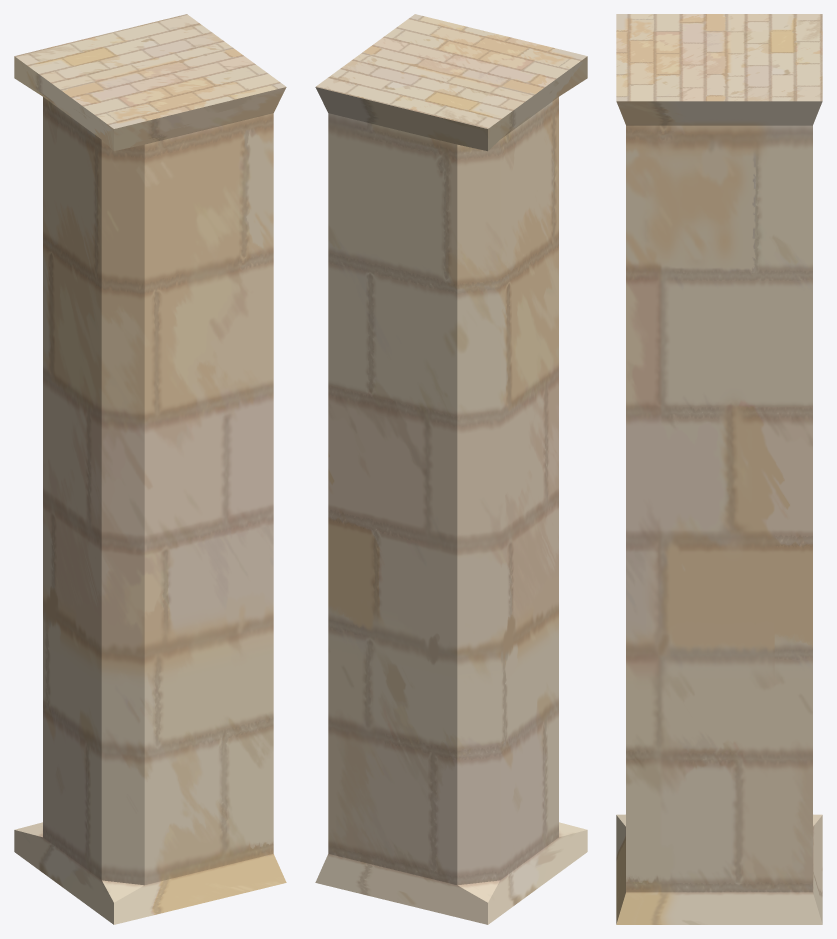
The model's file is Column_b.fbx.
The picture shows the model from 3 angles, left to right: view 1: azimuth 30°, elevation 25°; view 2: azimuth 150°, elevation 25°; view 3: azimuth 270°, elevation 25°; orthographic projection. The views are drawn at different scales.
Visible parts, largest first — view 1: pCube42; view 2: pCube42; view 3: pCube42.
Part boxes in pixels (box(x1,y1,x2,y2)): pCube42: box(14, 14, 286, 924); pCube42: box(315, 14, 587, 924); pCube42: box(616, 14, 822, 924).
Bounding box in the file's own units: 1.71 × 7.55 × 1.71.
